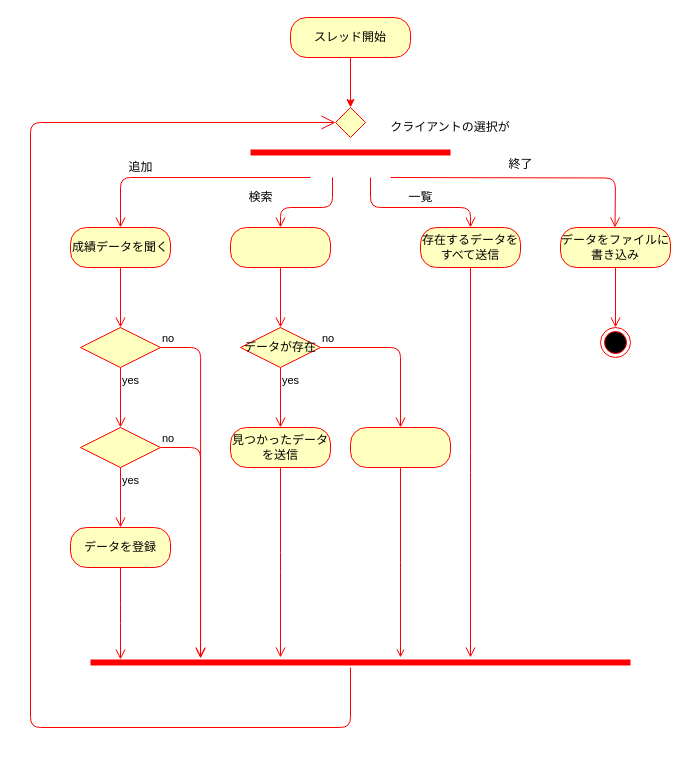
This 688x759 diagram has some shape labels left out. The centre of each missing label's shape, as x and y in pixels:
名前 | 番号を聞く: (280,247)
正規表現に マッチ: (120,347)
見つからなかったことを報告: (400,447)
重複がない: (120,447)
